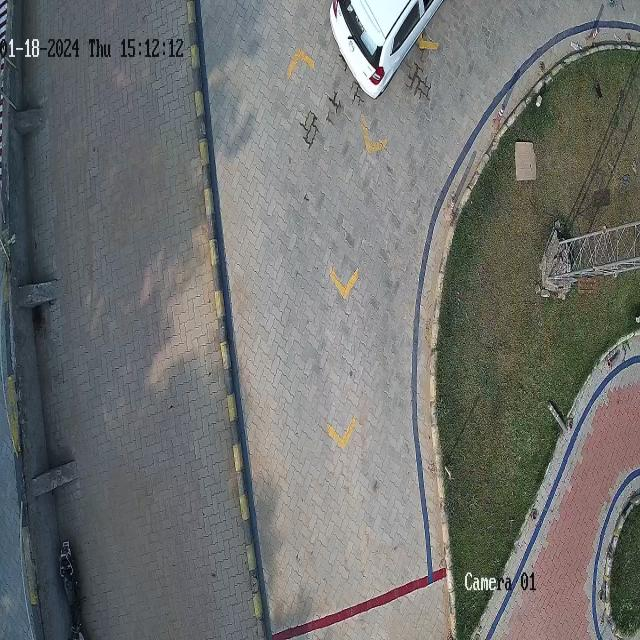car: (328, 0, 445, 100)
